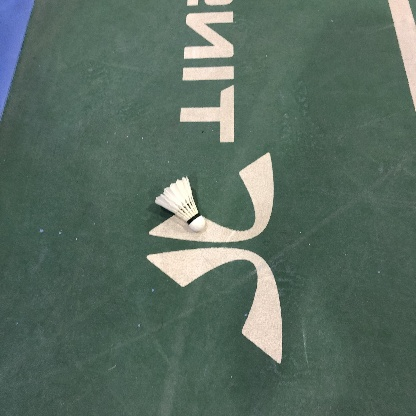ball_single: (155, 176, 205, 231)
